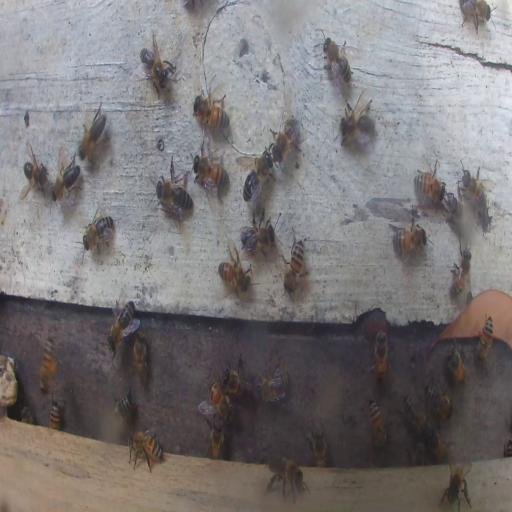nonpollenbee: (155, 157, 192, 224), (139, 33, 178, 95), (264, 458, 311, 502), (456, 162, 490, 221), (242, 146, 274, 204), (270, 107, 301, 165), (320, 32, 352, 88), (440, 460, 474, 511), (105, 299, 137, 353), (341, 93, 374, 145), (78, 103, 106, 164), (21, 141, 48, 203), (282, 229, 306, 296), (51, 148, 79, 204), (218, 248, 251, 295), (193, 150, 228, 194), (128, 428, 162, 472), (82, 210, 114, 253), (389, 218, 426, 254), (400, 392, 428, 438), (450, 192, 478, 237), (257, 365, 289, 404), (368, 396, 390, 450), (414, 164, 445, 202), (425, 380, 454, 420), (194, 96, 229, 128), (459, 1, 494, 33), (451, 244, 472, 297), (222, 362, 252, 399), (240, 220, 272, 254), (425, 427, 454, 462), (210, 379, 233, 420), (307, 422, 328, 466), (445, 346, 468, 384), (132, 333, 148, 386), (476, 315, 494, 362), (374, 331, 388, 383), (207, 420, 224, 458), (114, 386, 132, 420), (49, 398, 61, 430), (411, 440, 425, 463), (20, 405, 36, 423)
pollenbee: (38, 336, 56, 394)
